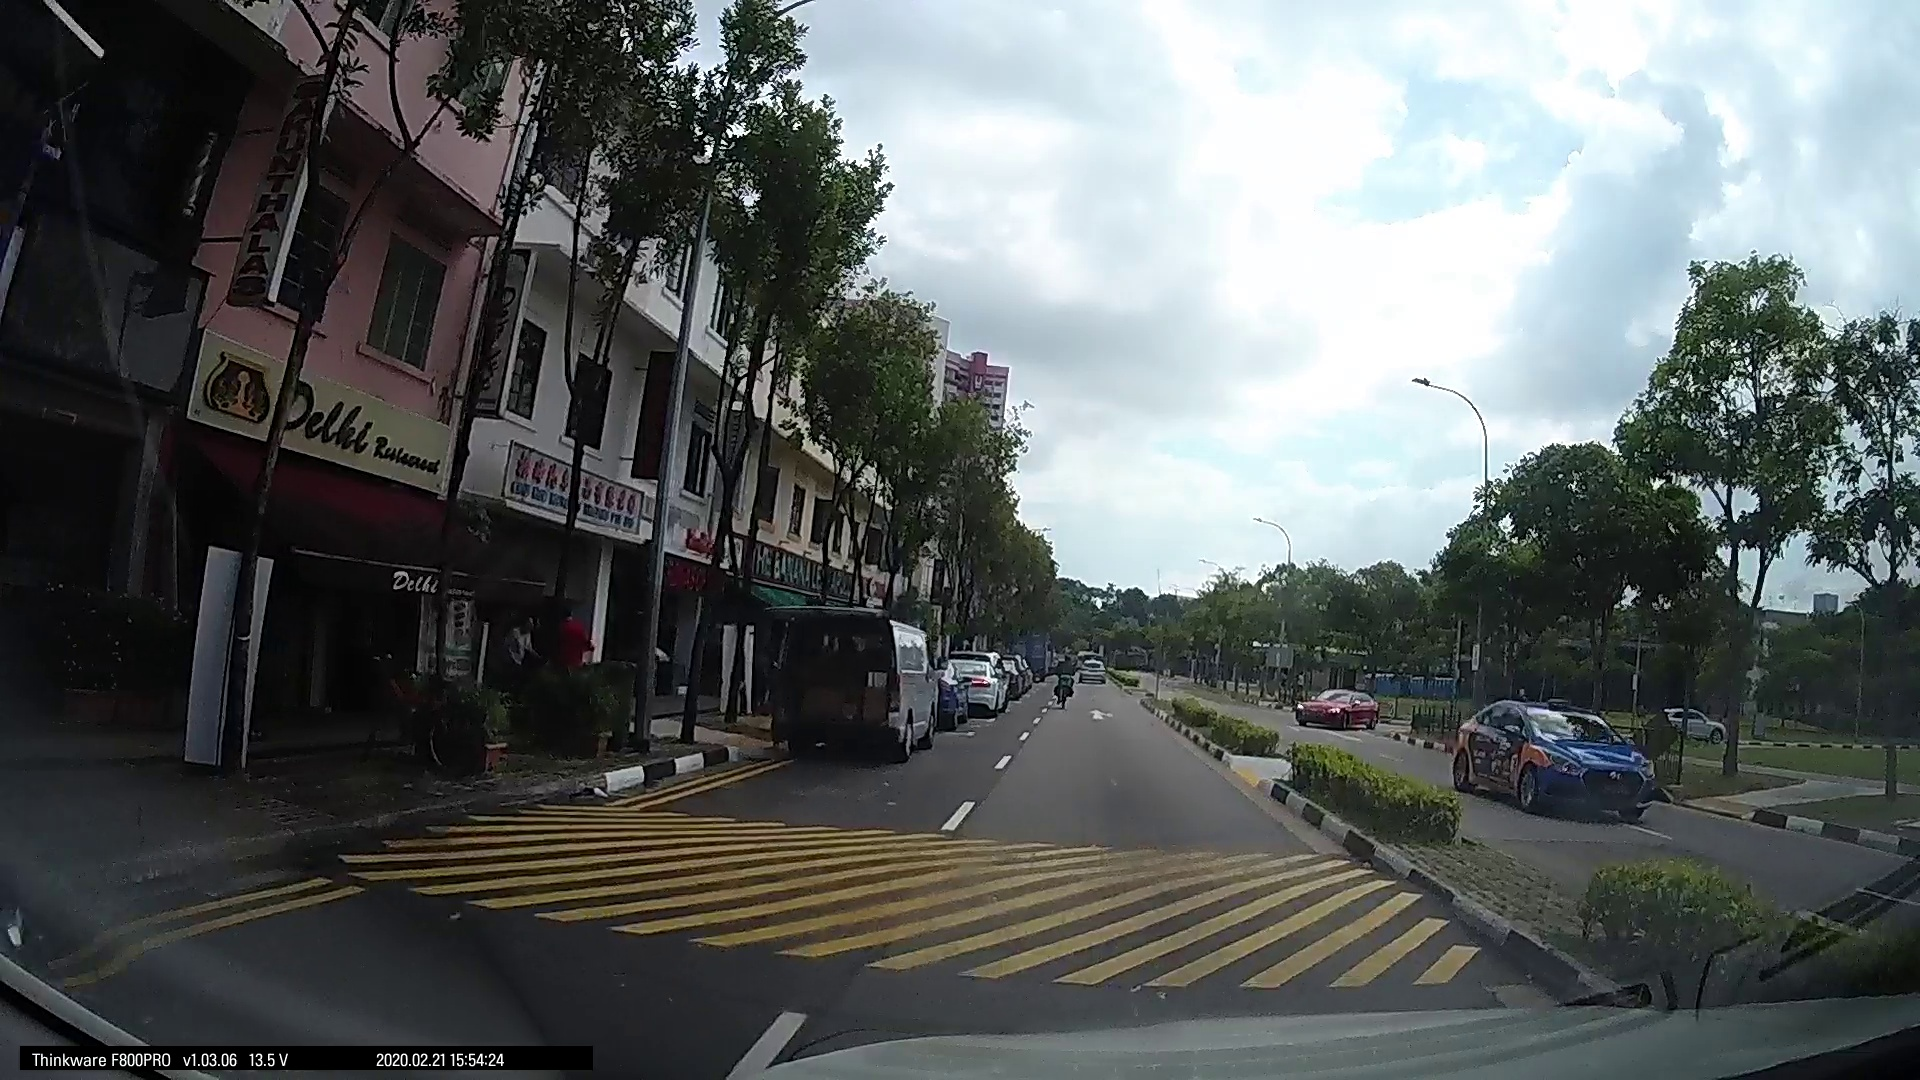Light Vehicle: (767, 599, 935, 762), (1447, 694, 1664, 819), (1288, 676, 1386, 735), (938, 647, 1011, 716)
